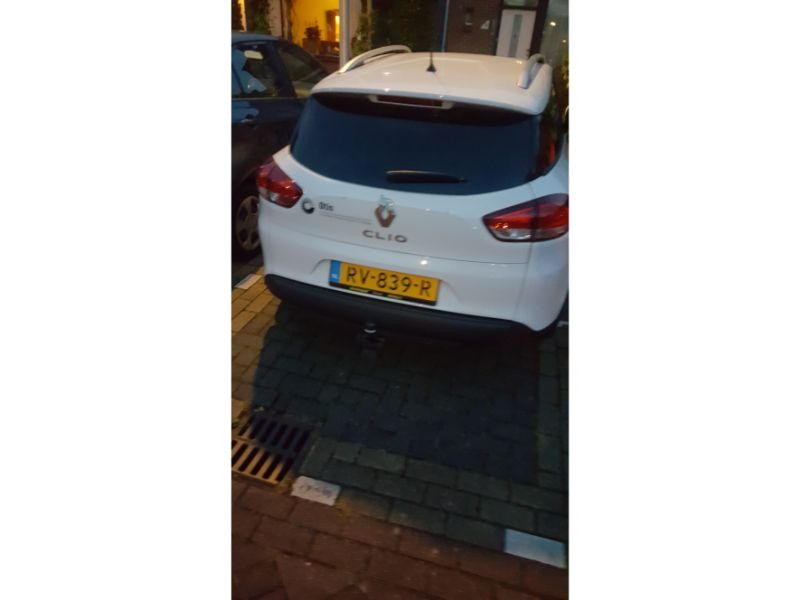kenteken: (326, 260, 441, 303)
